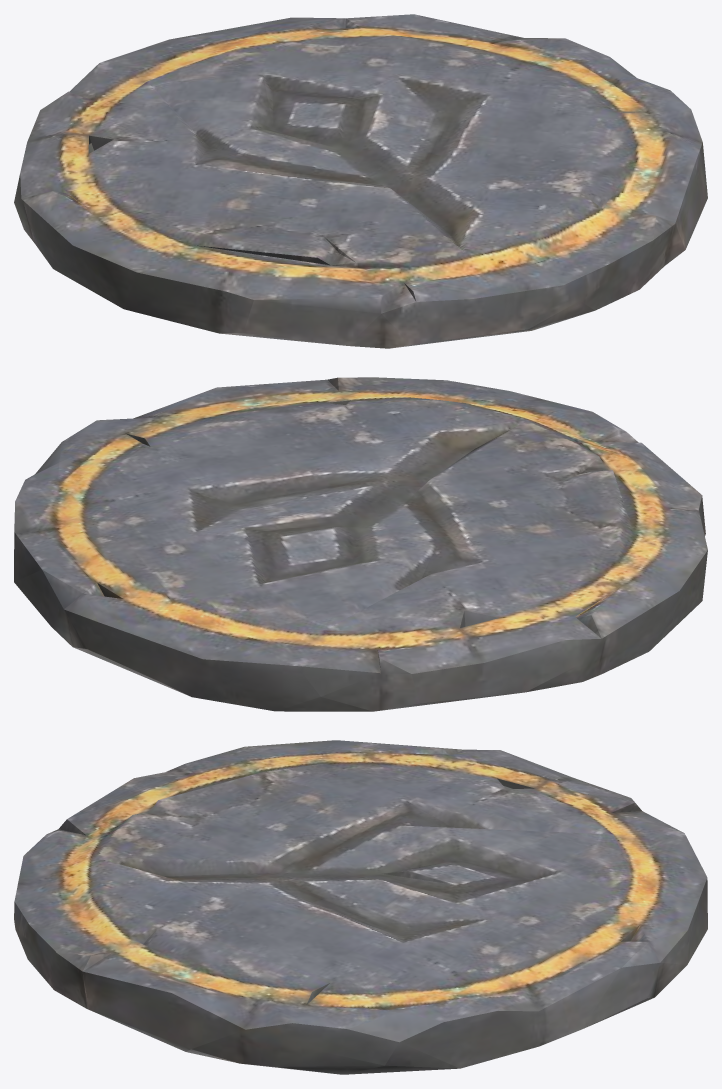
The model's file is hub_floor_rune.glb.
3 views of the same model, one above another, from view 1: azimuth 30°, elevation 25°; view 2: azimuth 150°, elevation 25°; view 3: azimuth 270°, elevation 25° (orthographic). The views are drawn at different scales.
Visible parts, largest first — view 1: body; view 2: body; view 3: body.
Part boxes in pixels (x1,y1,x2,y2): body: (14,14,707,348); body: (14,377,707,711); body: (14,740,707,1074).
Size of the model in its own units: 1.25 by 0.1381 by 1.25.
1 material, 1 textured.
